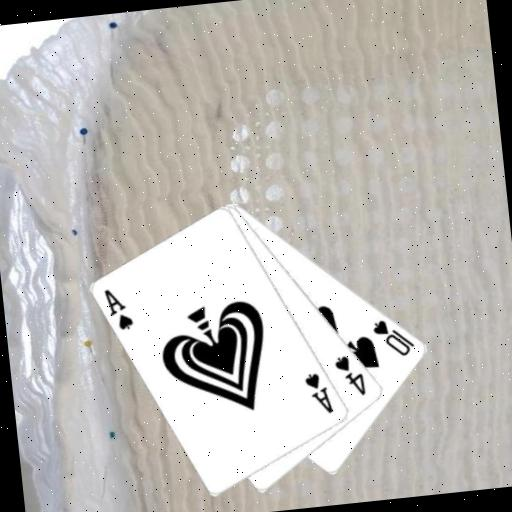10S: (369, 313, 418, 361)
4S: (331, 351, 369, 400)
AS: (101, 283, 137, 334), (301, 369, 336, 418)
